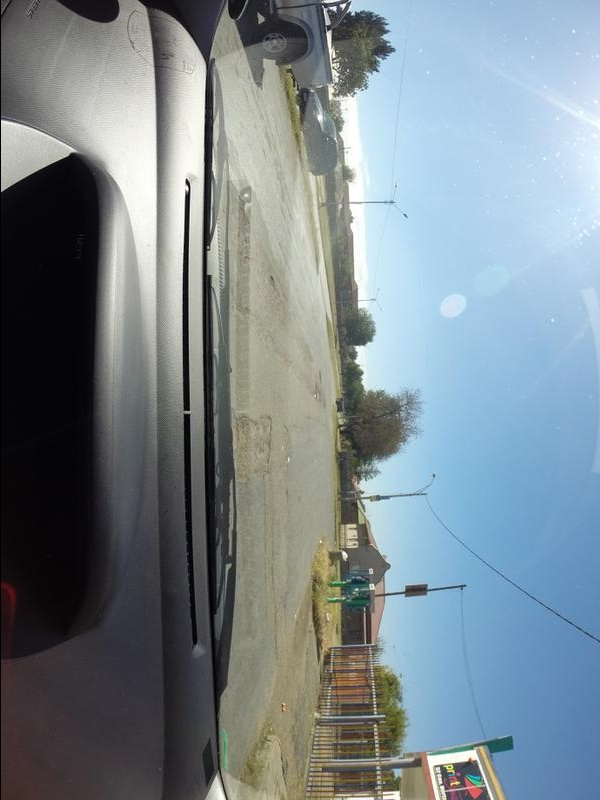pothole: (236, 412, 271, 479), (266, 273, 277, 299), (282, 488, 292, 506), (317, 369, 322, 389)
